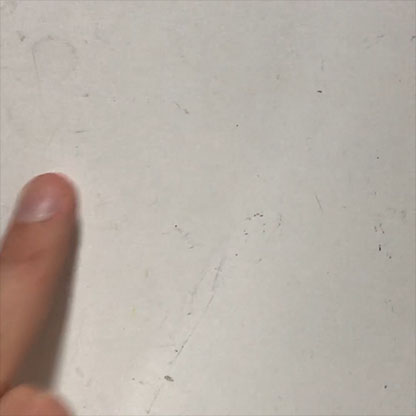fingertip: (5, 170, 84, 249)
